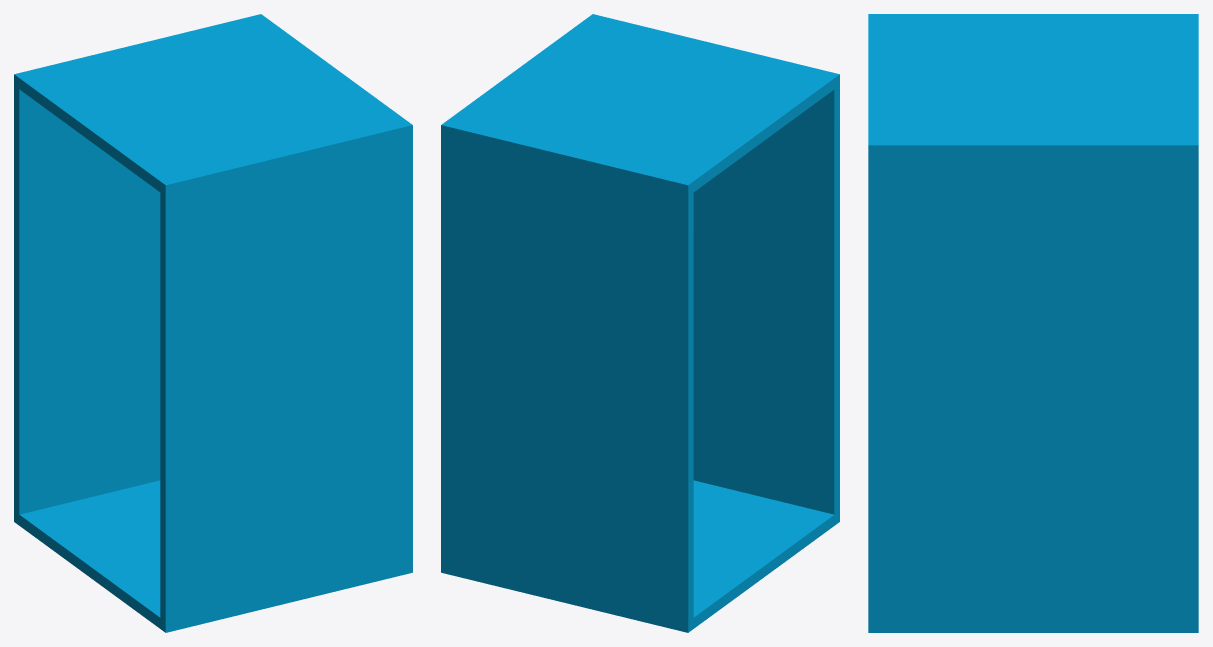
File: Office_Furniture_02_Lod.fbx
3 views of the same model, side by side, from view 1: azimuth 30°, elevation 25°; view 2: azimuth 150°, elevation 25°; view 3: azimuth 270°, elevation 25° (orthographic). The views are drawn at different scales.
Parts seen in each view (by area): view 1: Office_Furniture_02_Lod; view 2: Office_Furniture_02_Lod; view 3: Office_Furniture_02_Lod.
Boxes of the visible parts, x1,y1,x2,y2 form: Office_Furniture_02_Lod: (14,14,412,632); Office_Furniture_02_Lod: (441,14,839,632); Office_Furniture_02_Lod: (868,14,1198,632).
Size of the model in its own units: 27.07 by 46.86 by 28.78.
